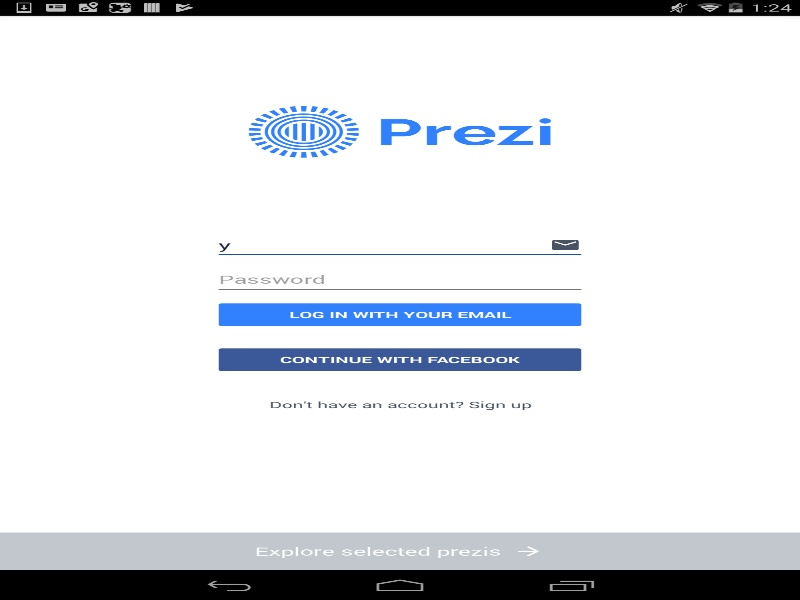Button: (213, 299, 586, 329), (213, 344, 586, 374), (263, 389, 536, 419), (544, 235, 586, 255)
Input: (213, 230, 586, 259), (213, 266, 586, 294)
